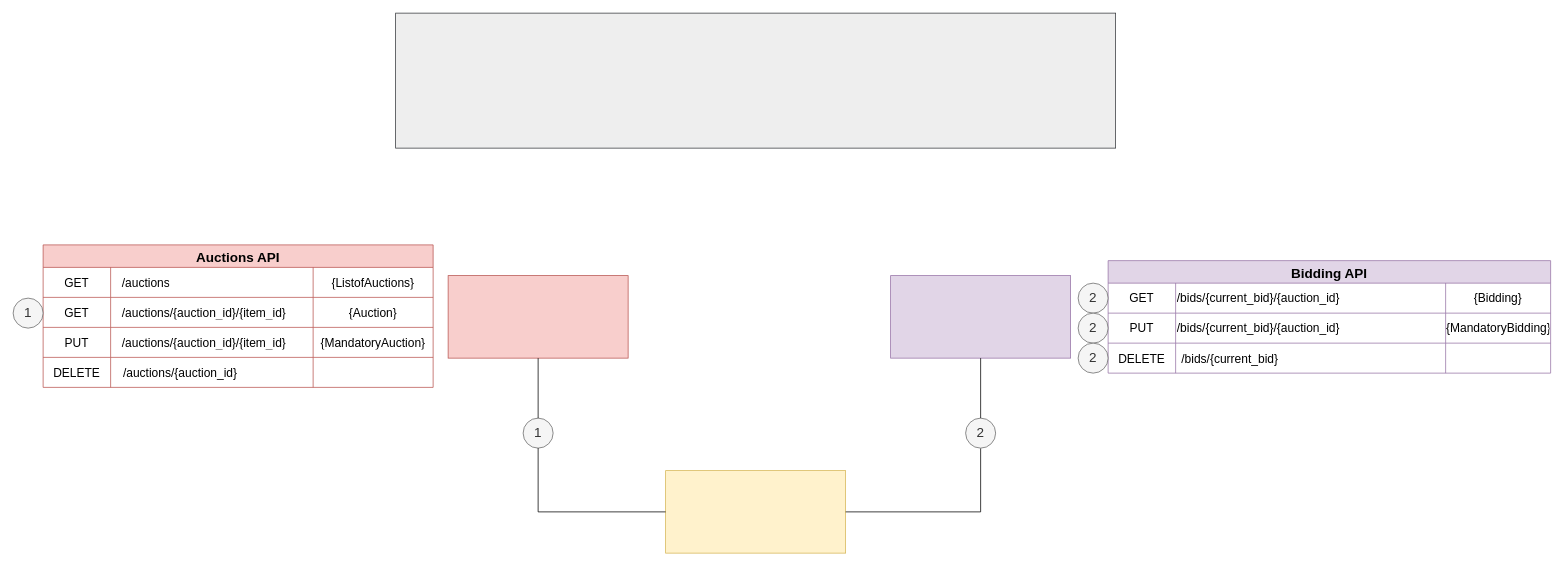
The diagram is 1564 pixels wide and 566 high, and some of its shapes have lost their labels. The shapes that lost their labels are listed below. From the top down, each one's centre as x and y in pixels, then its label:
the point at 755,80: Workflow for placing bids on an Auction
the point at 537,316: Auctions
the point at 980,316: Bidding
the point at 755,511: User_ID
